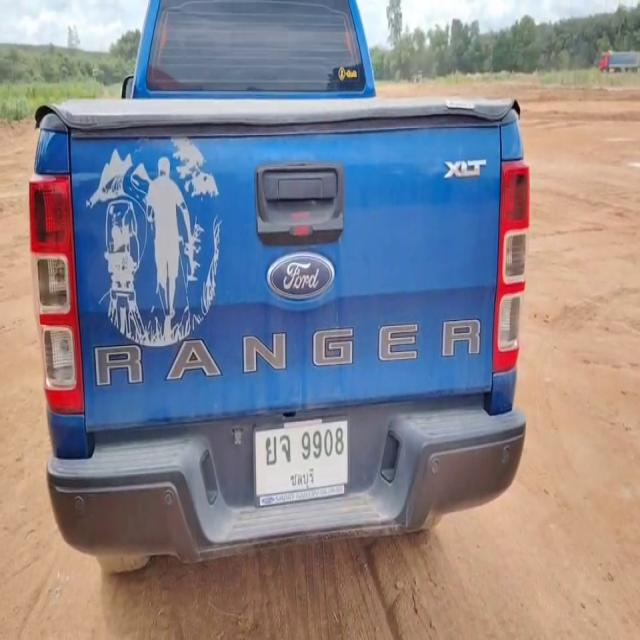Digit: (302, 426, 346, 461)
Licenseplate: (252, 419, 352, 503)
Provincename: (289, 467, 318, 492)
Thaichar: (264, 429, 292, 470)
